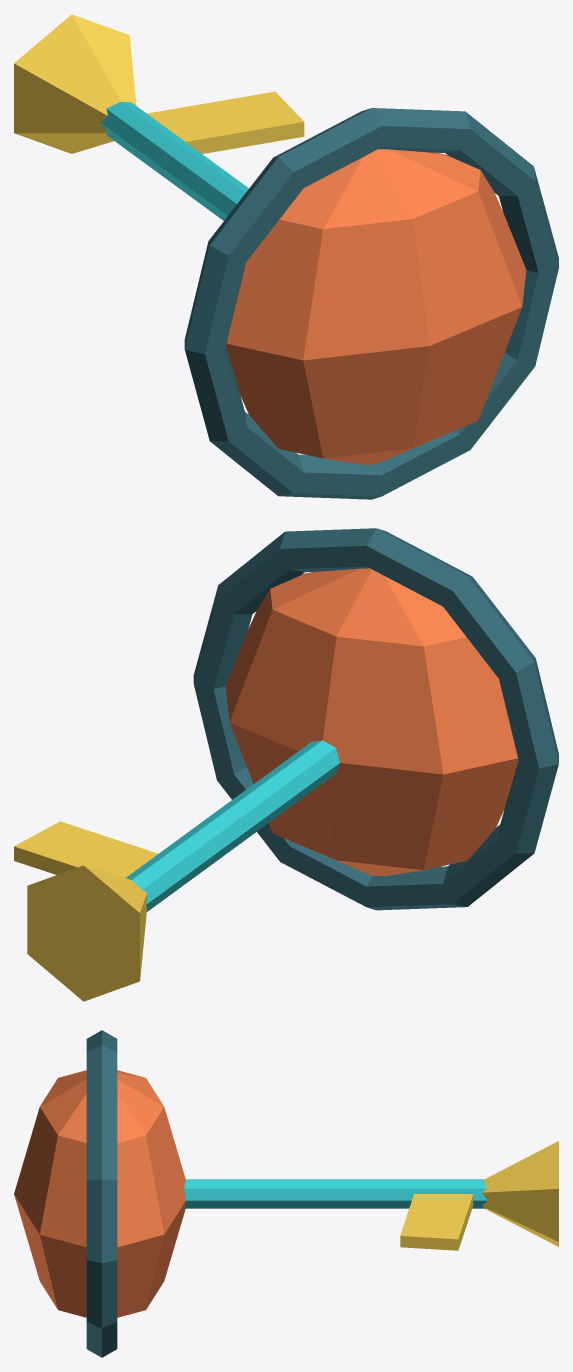
The model's file is wavebreak_buoy.glb.
The picture shows the model from 3 angles, top to bottom: view 1: azimuth 30°, elevation 25°; view 2: azimuth 150°, elevation 25°; view 3: azimuth 270°, elevation 25°; orthographic projection. The views are drawn at different scales.
Visible parts, largest first — view 1: Buoy_Float, Buoy_Ring, Buoy_Top, Buoy_Pole, Buoy_Flag; view 2: Buoy_Float, Buoy_Ring, Buoy_Top, Buoy_Pole, Buoy_Flag; view 3: Buoy_Float, Buoy_Ring, Buoy_Pole, Buoy_Top, Buoy_Flag.
Boxes of the visible parts, box(x1,y1,x2,y2) form: Buoy_Float: box(226, 149, 526, 464); Buoy_Ring: box(184, 108, 558, 499); Buoy_Top: box(14, 14, 136, 153); Buoy_Pole: box(100, 101, 248, 220); Buoy_Flag: box(147, 91, 304, 153); Buoy_Float: box(225, 568, 518, 876); Buoy_Ring: box(193, 528, 558, 910); Buoy_Top: box(27, 865, 146, 1001); Buoy_Pole: box(125, 740, 339, 911); Buoy_Flag: box(14, 821, 158, 877); Buoy_Float: box(14, 1070, 185, 1317); Buoy_Ring: box(86, 1030, 117, 1357); Buoy_Pole: box(184, 1179, 487, 1208); Buoy_Top: box(482, 1141, 558, 1246); Buoy_Flag: box(400, 1194, 473, 1250).
Bounding box in the file's own units: 1.57 × 1.57 × 2.6.
